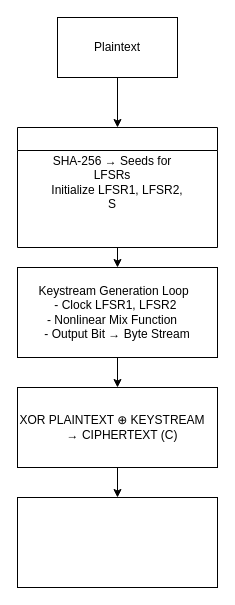
Image size: 235x605. Some labels were removed from this diagram. Here are the shapes that lost their labels. From the top down, the box of each, then its label:
(16, 126, 218, 248): KEY + IV (Initialization)
(16, 496, 218, 588): TRANSMIT / STORE CIPHERTEXT
